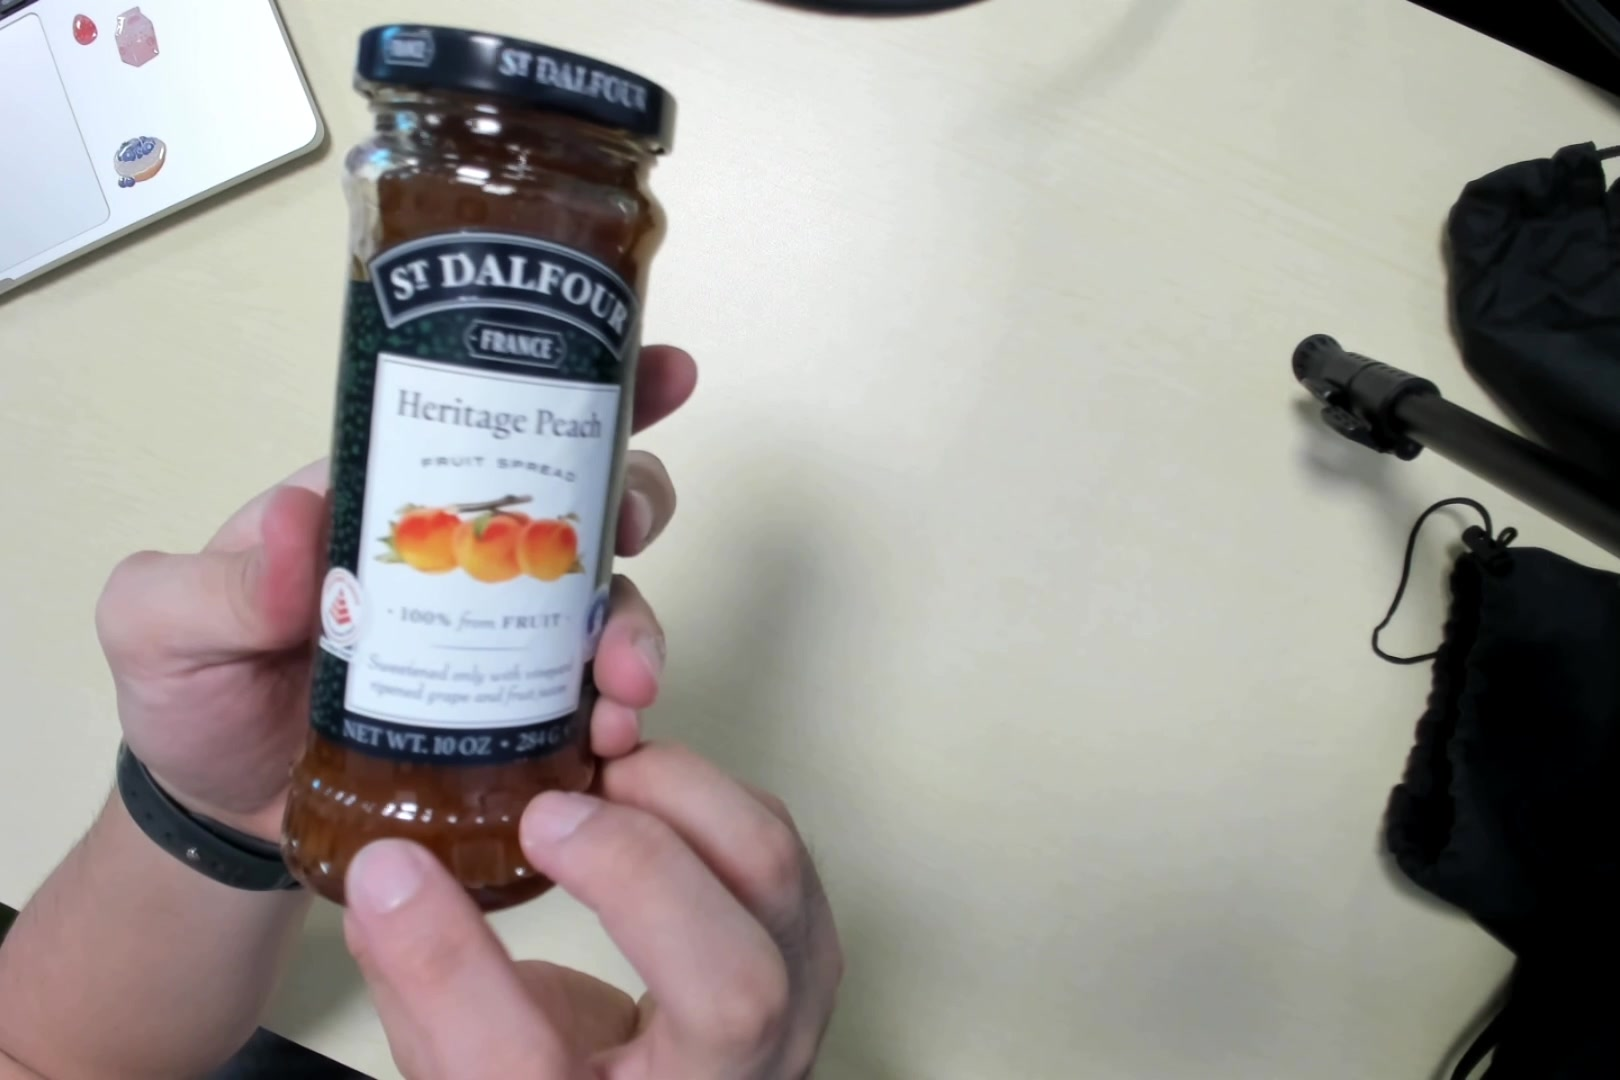Jam_200-299g_Halal_Healthy: (293, 24, 655, 939)
